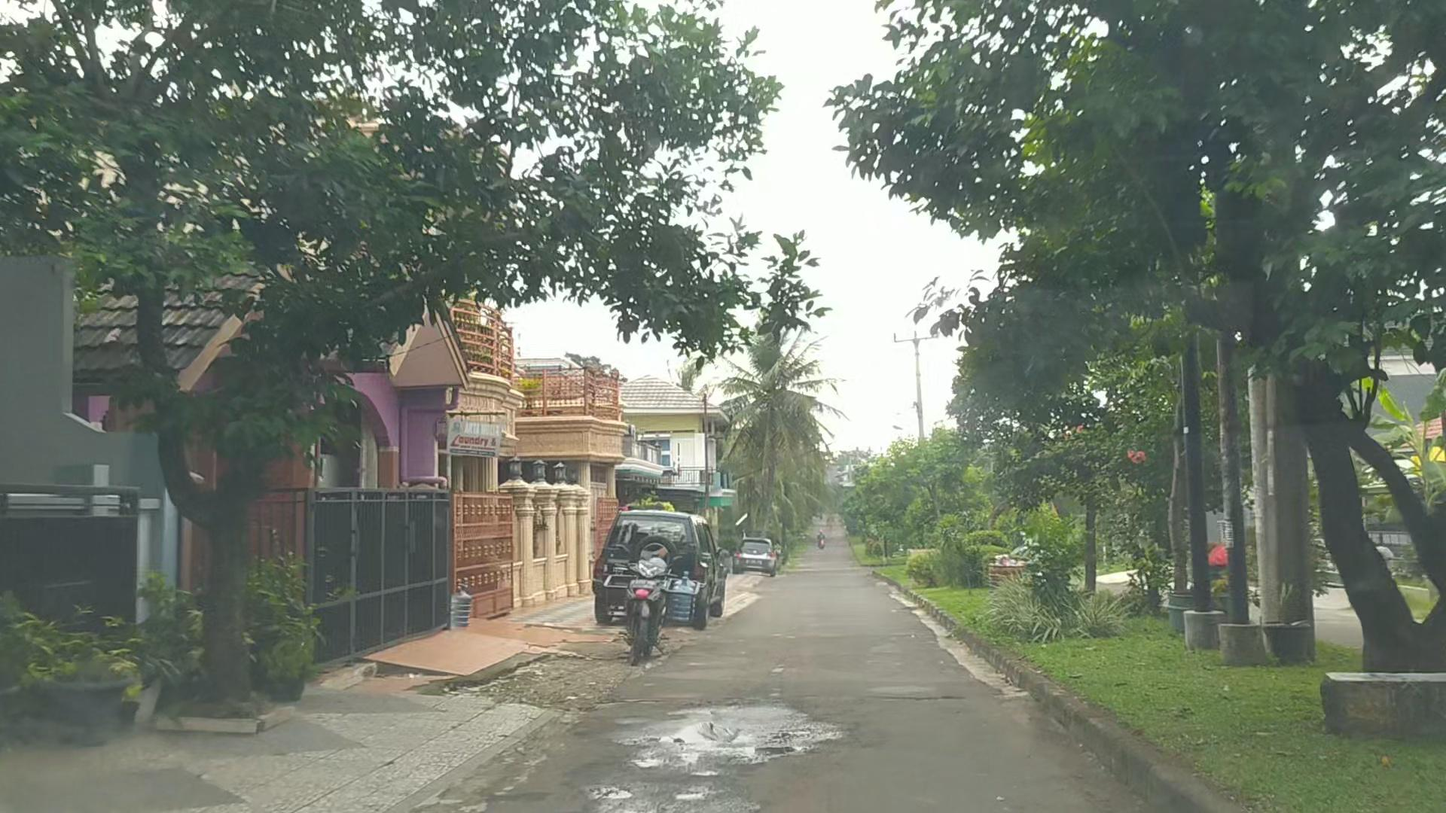pothole: (612, 717, 813, 768), (585, 783, 636, 802), (873, 695, 969, 702), (673, 791, 708, 801)
